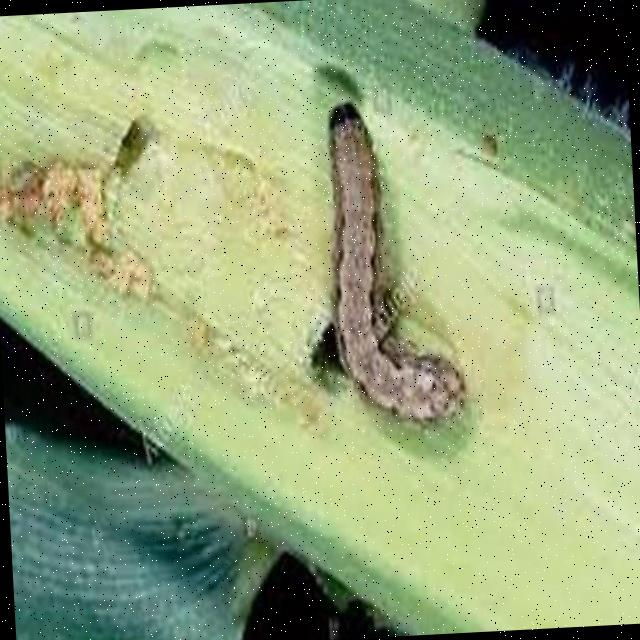worm: (322, 99, 472, 433)
